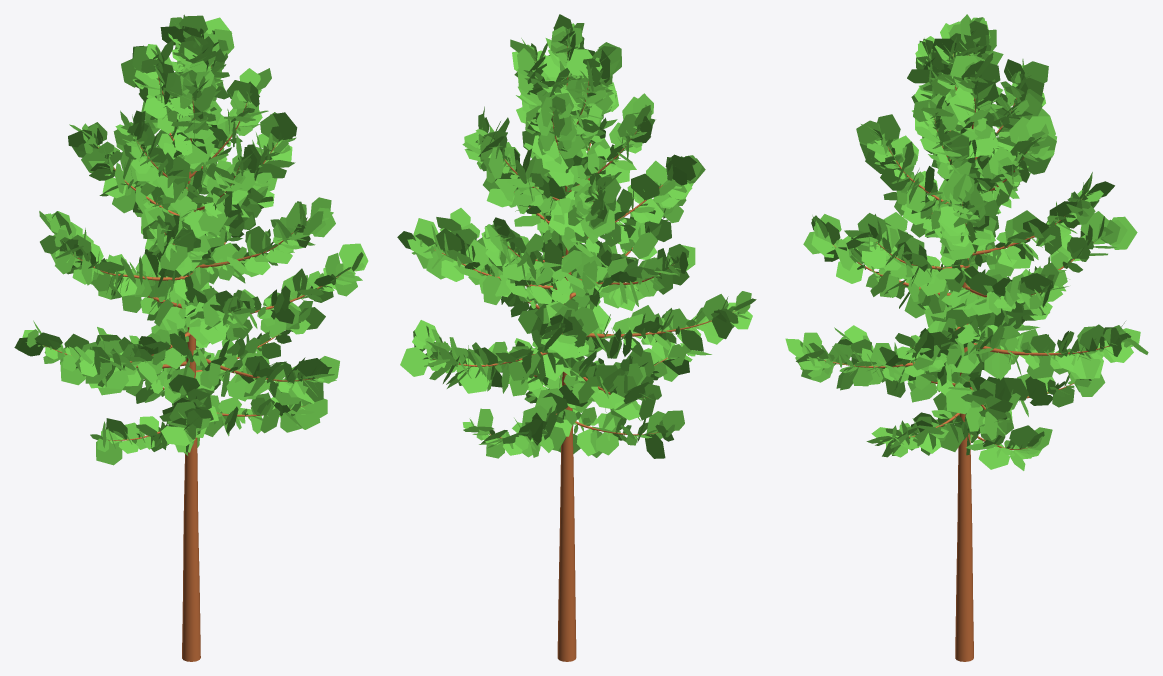
The model's file is tree.fbx.
The picture shows the model from 3 angles, left to right: view 1: azimuth 30°, elevation 25°; view 2: azimuth 150°, elevation 25°; view 3: azimuth 270°, elevation 25°; orthographic projection.
Visible parts, largest first — view 1: leaves, tree; view 2: leaves, tree; view 3: leaves, tree.
Part boxes in pixels (box(x1,y1,x2,y2)): leaves: box(14, 14, 368, 465); tree: box(43, 65, 349, 661); leaves: box(397, 14, 756, 458); tree: box(433, 46, 735, 661); leaves: box(785, 14, 1148, 470); tree: box(824, 53, 1109, 661).
Size of the model in its own units: 882 by 1774 by 910.
